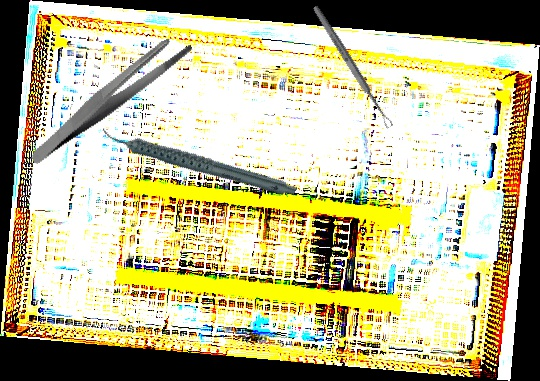Dressing Forceps: (10, 31, 210, 165)
Handpiece: (99, 87, 299, 234)
Surgical Spoon: (311, 4, 394, 130)
